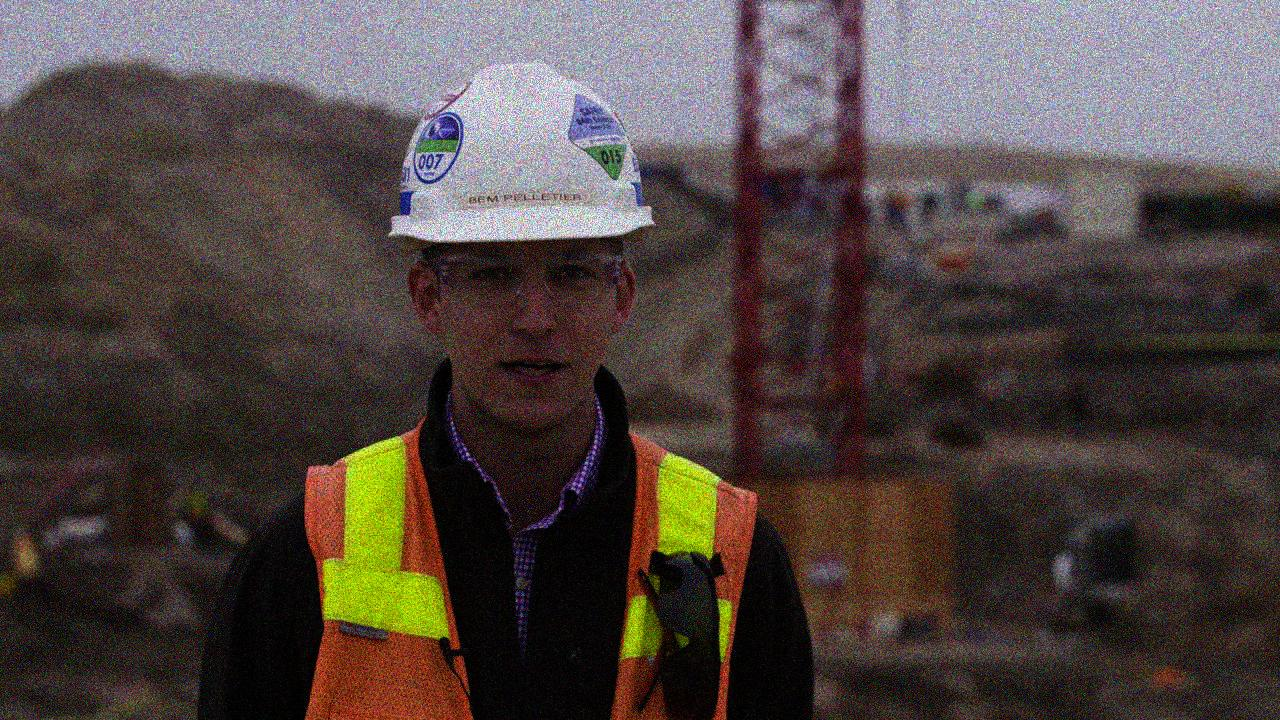helmet: (388, 58, 654, 438)
